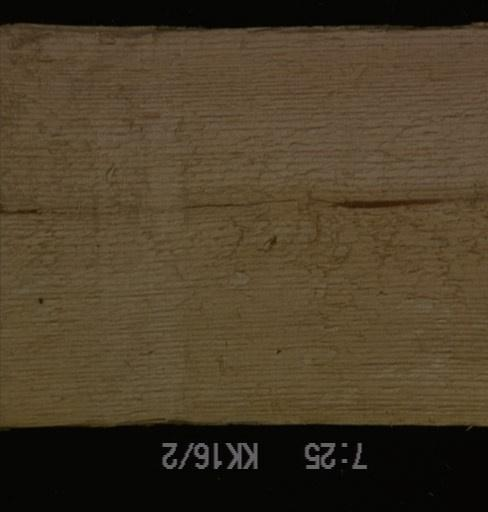split: (183, 185, 305, 226)
